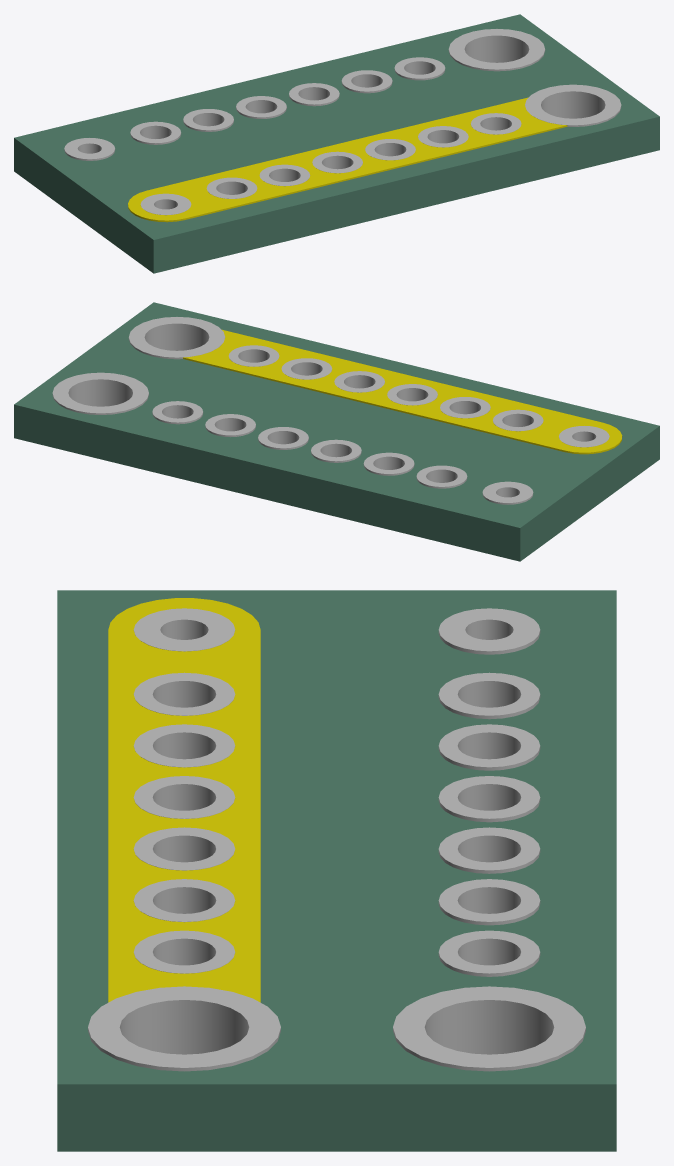
Rendered from TXJ1_with_components.glb.
3 views of the same model, one above another, from view 1: azimuth 30°, elevation 25°; view 2: azimuth 150°, elevation 25°; view 3: azimuth 270°, elevation 25° (orthographic). The views are drawn at different scales.
Visible parts, largest first — view 1: =>[0:1:1:4], =>[0:1:1:3], =>[0:1:1:2]; view 2: =>[0:1:1:4], =>[0:1:1:3], =>[0:1:1:2]; view 3: =>[0:1:1:4], =>[0:1:1:3], =>[0:1:1:2].
Boxes of the visible parts, left/top/right/bottom form: =>[0:1:1:4]: left=14, top=14, right=659, bottom=273; =>[0:1:1:3]: left=64, top=29, right=621, bottom=215; =>[0:1:1:2]: left=128, top=97, right=567, bottom=222; =>[0:1:1:4]: left=14, top=302, right=659, bottom=561; =>[0:1:1:3]: left=52, top=317, right=609, bottom=504; =>[0:1:1:2]: left=183, top=329, right=622, bottom=454; =>[0:1:1:4]: left=57, top=590, right=616, bottom=1151; =>[0:1:1:3]: left=88, top=608, right=585, bottom=1071; =>[0:1:1:2]: left=108, top=598, right=260, bottom=1002.
Size of the model in its own units: 0.023 by 0.00161 by 0.011.
